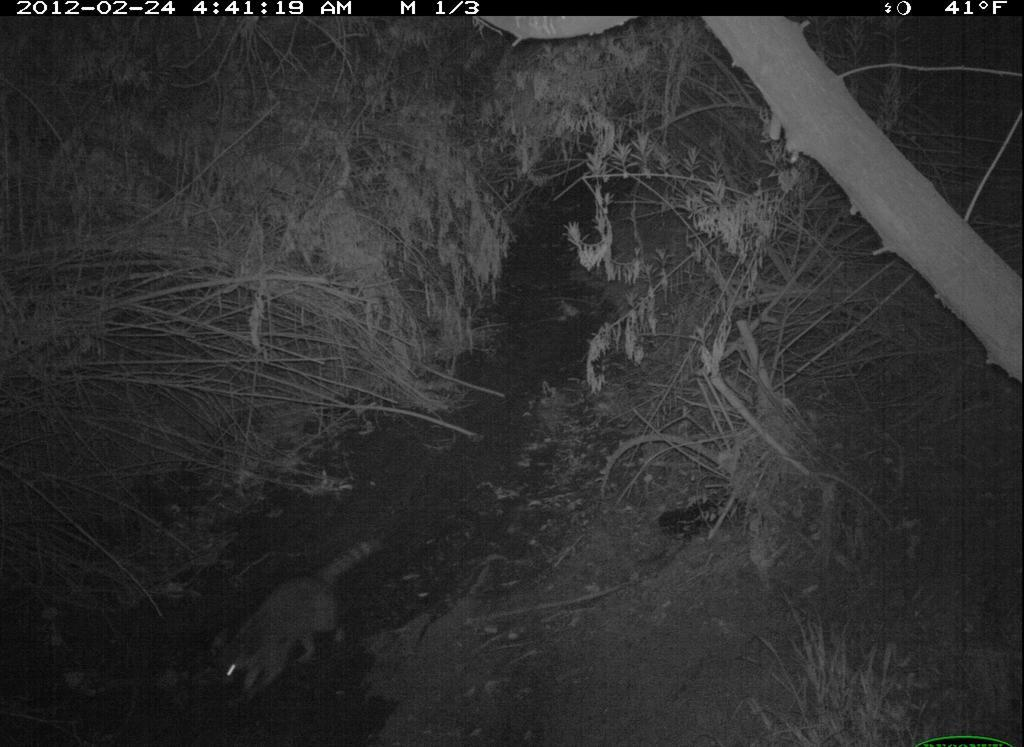raccoon: (203, 530, 393, 715)
